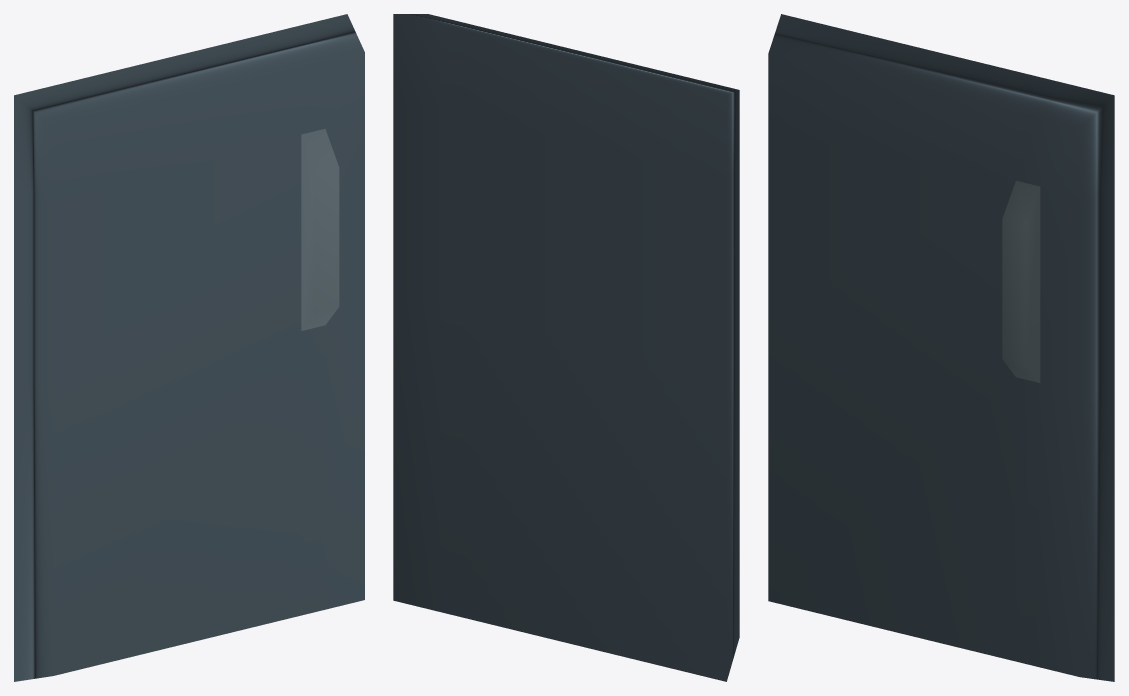
The model's file is VanitySinkDoorLeft_Bathroom_V1.fbx.
3 renders of one model, left to right at view 1: azimuth 30°, elevation 25°; view 2: azimuth 150°, elevation 25°; view 3: azimuth 330°, elevation 25°, orthographic.
Visible parts, largest first — view 1: Cube.001; view 2: Cube.001; view 3: Cube.001.
Boxes of the visible parts, left/top/right/bottom form: Cube.001: left=14, top=14, right=364, bottom=681; Cube.001: left=393, top=14, right=739, bottom=681; Cube.001: left=768, top=14, right=1114, bottom=681.
Bounding box in the file's own units: 40.63 × 68.33 × 8.44.
